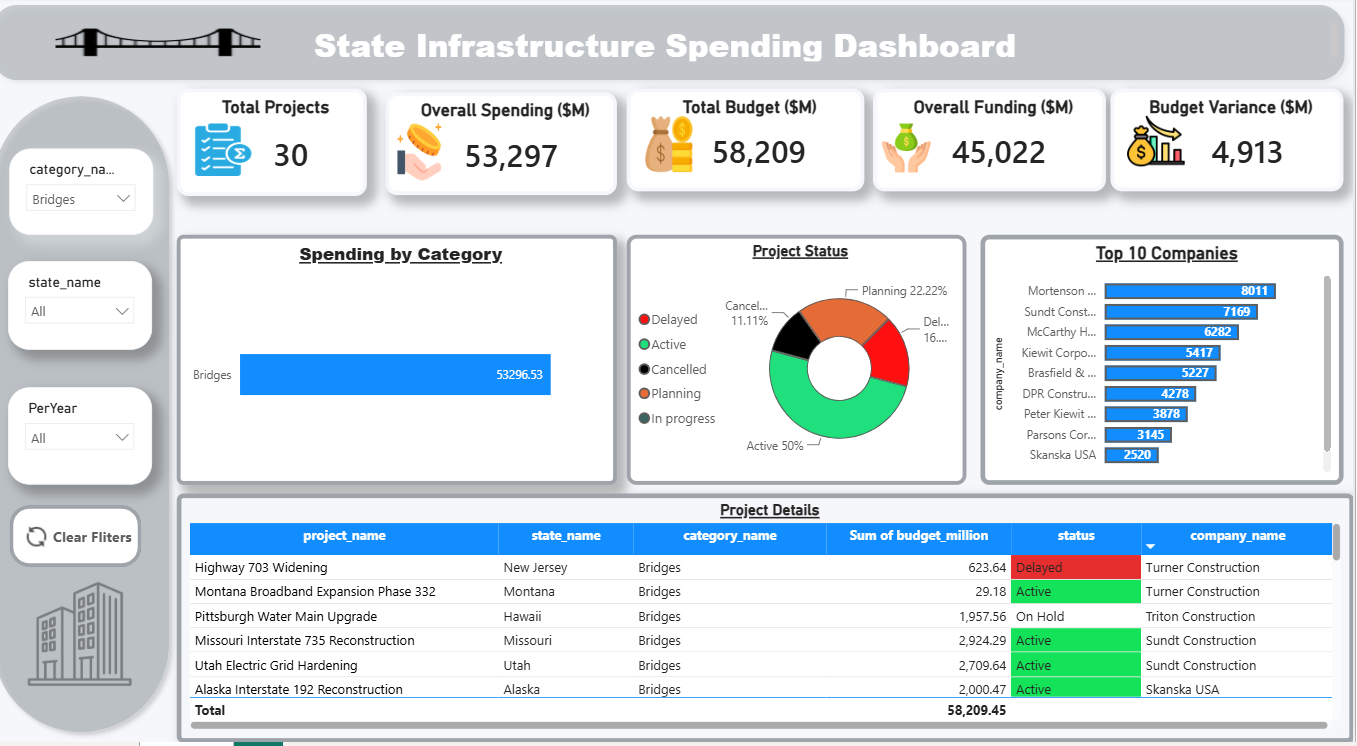

Layout of this report page (visuals, bound fields, positions):
{"tool":"powerbi","page":{"name":"Page 1","canvas":[1407,766],"ordinal":0},"visuals":[{"type":"shape","box":[1.3,94.2,198.8,671.4],"z":0},{"type":"barChart","title":"Spending by Category","fields":{"Y":["Sum(projects_stagging.actual_cost_milion)"],"Category":["categories_stagging.category_name"]},"box":[198.9,245.2,451.8,256.7],"z":1000},{"type":"slicer","fields":{"Values":["categories_stagging.category_name"]},"box":[27,156.6,147.6,88.6],"z":2000},{"type":"tableEx","title":"Project Details","fields":{"Values":["projects_stagging.project_name","states_stagging.state_name","categories_stagging.category_name","Sum(projects_stagging.budget_million)","projects_stagging.status","contractors_stagging.company_name"]},"box":[198.8,511.3,1208.4,255.6],"z":3000},{"type":"shape","box":[0,0,1407.3,95.5],"z":4000},{"type":"slicer","fields":{"Values":["states_stagging.state_name"]},"box":[25.7,272.1,147.6,91.1],"z":5000},{"type":"slicer","fields":{"Values":["projects_stagging.PerYear"]},"box":[25.7,401.7,147.6,100.1],"z":6000},{"type":"donutChart","title":"Project Status","fields":{"Y":["projects_stagging.delayed_Status","projects_stagging.active_Status","projects_stagging.cancelled_Status","projects_stagging.Planning_Status","projects_stagging.in_progress_Status"]},"box":[661,245.3,348.6,256.9],"z":7000},{"type":"clusteredBarChart","title":"Top 10 Companies","fields":{"Category":["contractors_stagging.company_name"],"Y":["Sum(projects_stagging.actual_cost_milion)"]},"box":[1023.8,245.3,373.1,256.9],"z":8000},{"type":"actionButton","box":[27,522.4,136.1,64.2],"z":9000},{"type":"cardVisual","title":"Overall Spending ($M)","fields":{"Data":["Sum(projects_stagging.actual_cost_milion)"]},"box":[413.1,99.4,237.6,105.9],"z":10000},{"type":"cardVisual","title":"Total Budget ($M)","fields":{"Data":["Sum(projects_stagging.budget_million)"]},"box":[661,95.5,244,105.9],"z":11000},{"type":"cardVisual","title":"Overall  Funding ($M)","fields":{"Data":["Sum(funding_sources_stagging.amount_million)"]},"box":[914.1,95.5,238.8,105.9],"z":12000},{"type":"cardVisual","title":"Budget Variance ($M)","fields":{"Data":["projects_stagging.Cost_Over_run"]},"box":[1158.1,95.5,238.8,105.9],"z":13000},{"type":"image","box":[679.1,118.8,50.4,65.8],"z":14000},{"type":"image","box":[923.1,117.5,50.4,76.2],"z":15000},{"type":"image","box":[1173.6,118.8,62,59.4],"z":16000},{"type":"image","box":[424.8,130.4,46.5,58.1],"z":17000},{"type":"cardVisual","title":"Total Projects","fields":{"Data":["CountNonNull(projects_stagging.project_id)"]},"box":[198.9,95,195.1,110.4],"z":18000},{"type":"image","box":[207.9,126.5,77.5,62],"z":19000},{"type":"image","box":[32.3,600.3,134.3,108.4],"z":20000},{"type":"image","box":[74.9,11.6,210.4,72.3],"z":20500},{"type":"textbox","box":[11.6,23.2,1385.3,49.1],"z":21000}]}

Visuals, with their boxes in screenshot pixels (x1, y1, x2, y2), scaled from the page's 1407x766 canvas onto the 1357x746 screenshot:
shape: box=[1, 92, 193, 745]
"Spending by Category" barChart: box=[192, 239, 628, 489]
slicer - categories_stagging.category_name: box=[26, 153, 168, 239]
"Project Details" tableEx: box=[192, 498, 1356, 745]
shape: box=[0, 0, 1356, 93]
slicer - states_stagging.state_name: box=[25, 265, 167, 354]
slicer - projects_stagging.PerYear: box=[25, 391, 167, 489]
"Project Status" donutChart: box=[638, 239, 974, 489]
"Top 10 Companies" clusteredBarChart: box=[987, 239, 1347, 489]
actionButton: box=[26, 509, 157, 571]
"Overall Spending ($M)" cardVisual: box=[398, 97, 628, 200]
"Total Budget ($M)" cardVisual: box=[638, 93, 873, 196]
"Overall  Funding ($M)" cardVisual: box=[882, 93, 1112, 196]
"Budget Variance ($M)" cardVisual: box=[1117, 93, 1347, 196]
image: box=[655, 116, 704, 180]
image: box=[890, 114, 939, 189]
image: box=[1132, 116, 1192, 174]
image: box=[410, 127, 455, 184]
"Total Projects" cardVisual: box=[192, 93, 380, 200]
image: box=[201, 123, 275, 184]
image: box=[31, 585, 161, 690]
image: box=[72, 11, 275, 82]
textbox: box=[11, 23, 1347, 70]
